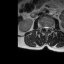CCS_normal: (46, 25, 47, 33)
LFS_normal: (49, 25, 52, 31)
LLS_normal: (47, 25, 50, 31)
RFS_normal: (42, 24, 44, 31)
RLS_normal: (44, 25, 46, 30)
